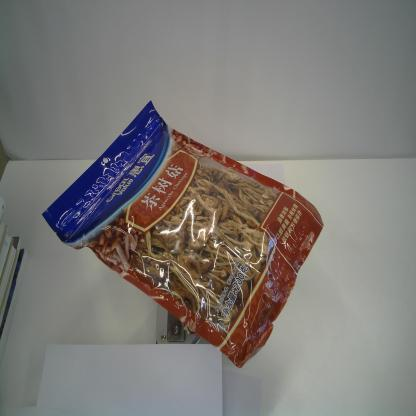Dried Food: (40, 100, 324, 370)
